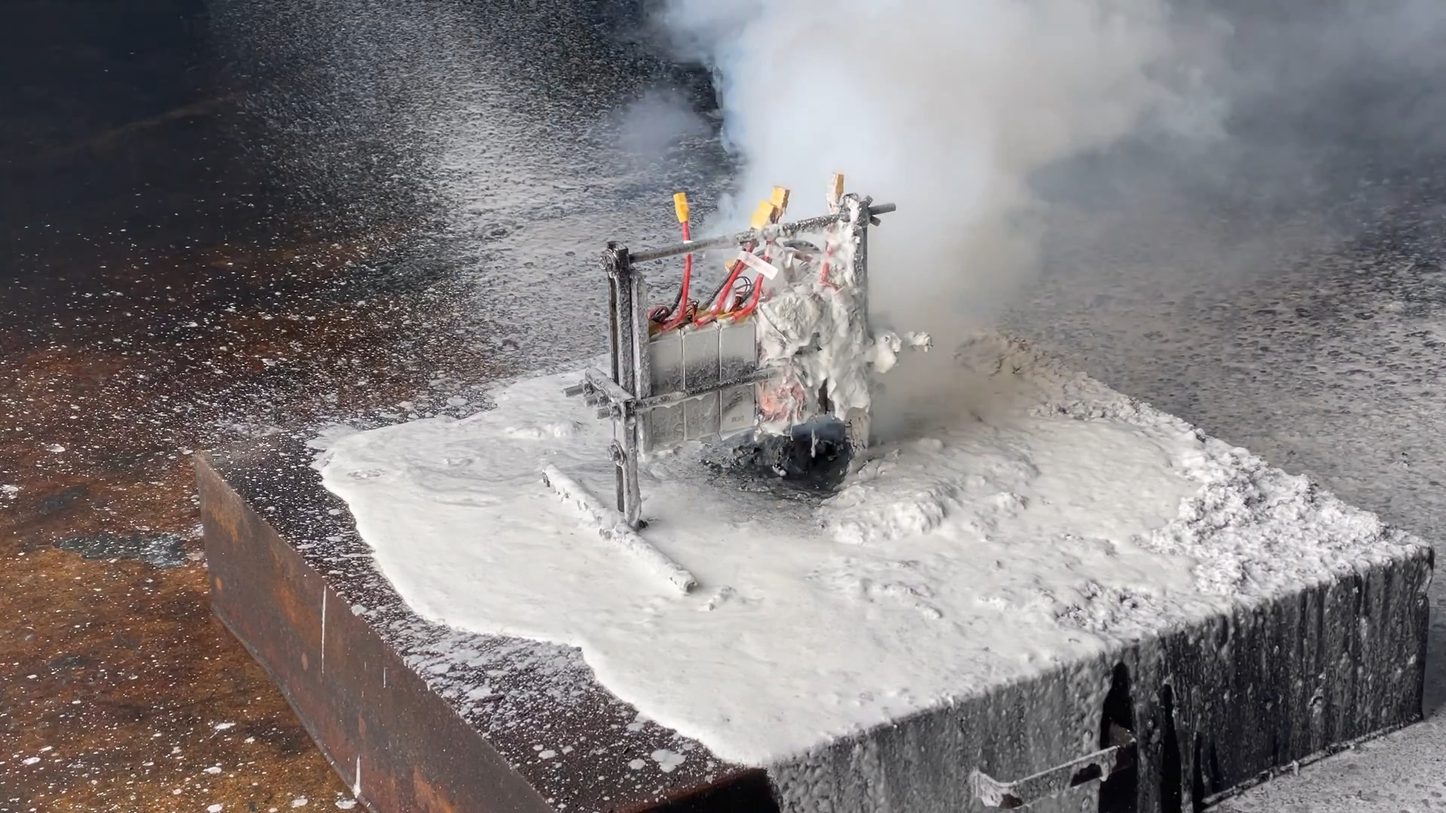smoke: (611, 0, 1436, 443)
